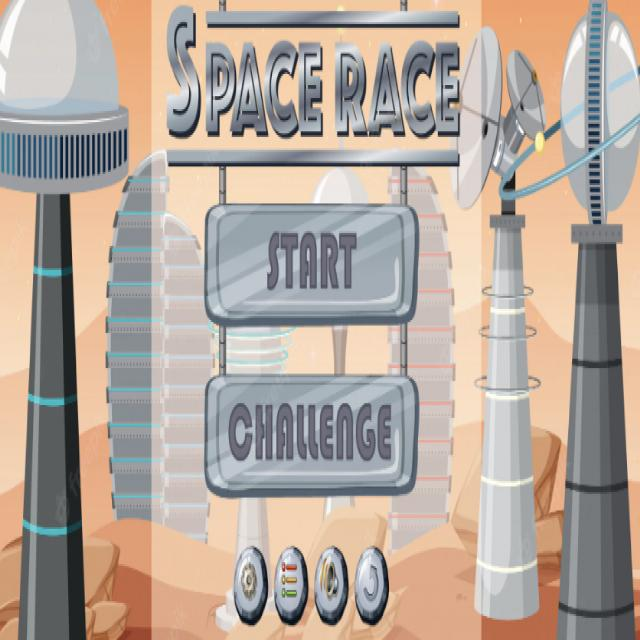Start-button: (208, 205, 417, 335)
